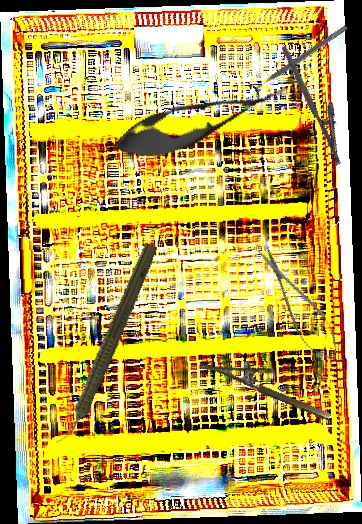Fixation Ring: (248, 19, 352, 101)
Handpiece: (51, 239, 162, 451)
Micro Scissor: (101, 68, 297, 174), (246, 237, 351, 371)
Needle Holder: (198, 342, 339, 422), (280, 38, 358, 166)
